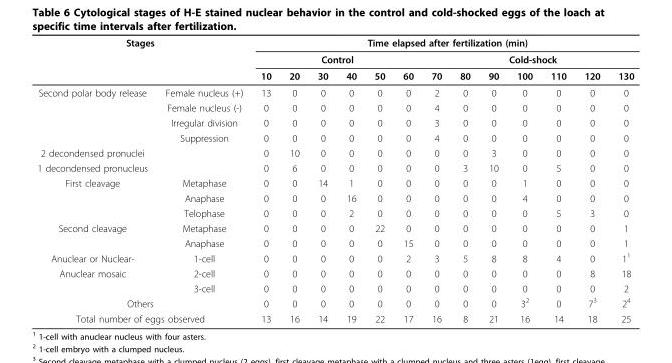table: (36, 36, 633, 323)
table column: (36, 36, 155, 323), (155, 36, 251, 323), (507, 36, 541, 323), (574, 36, 608, 323), (541, 36, 574, 323), (279, 36, 308, 323), (364, 36, 393, 323), (421, 36, 450, 323), (478, 36, 507, 323), (251, 36, 279, 323), (308, 36, 336, 323), (336, 36, 364, 323), (393, 36, 421, 323), (450, 36, 478, 323), (608, 36, 633, 323)
table column header: (36, 36, 633, 84)
table row: (36, 50, 633, 67), (36, 67, 633, 84), (36, 114, 633, 130), (36, 249, 633, 265), (36, 294, 633, 310), (36, 84, 633, 99), (36, 99, 633, 114), (36, 130, 633, 145), (36, 145, 633, 160), (36, 160, 633, 175), (36, 175, 633, 190), (36, 190, 633, 205), (36, 205, 633, 220), (36, 220, 633, 235), (36, 265, 633, 280), (36, 36, 633, 50), (36, 235, 633, 249), (36, 280, 633, 294), (36, 310, 633, 323)
table spanning cell: (36, 84, 155, 145), (36, 175, 155, 220), (251, 36, 633, 50), (421, 50, 633, 67), (36, 220, 155, 249), (36, 265, 155, 294), (36, 294, 251, 310), (36, 36, 251, 50), (251, 50, 421, 67), (36, 310, 251, 323)
